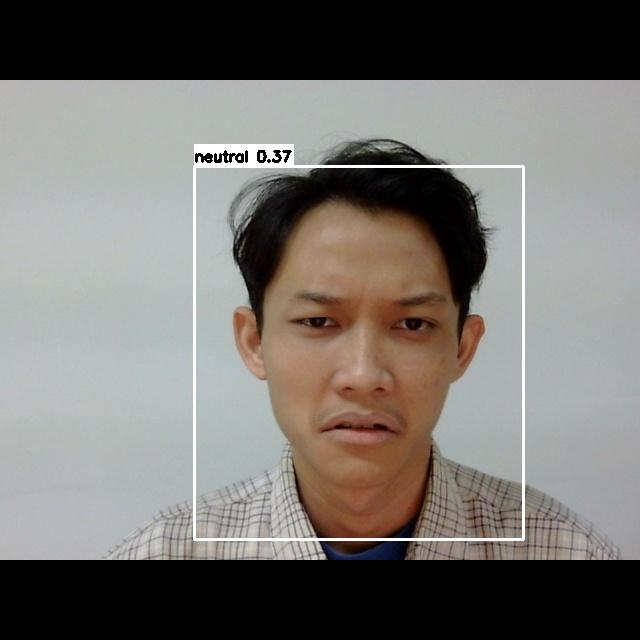Disgust: (268, 274, 465, 458)
